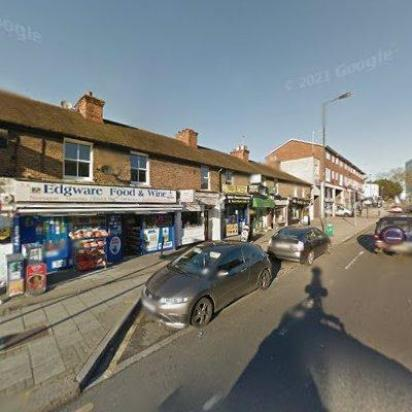moving-car: (372, 213, 412, 257), (389, 204, 403, 214)
stationary-car-onstreet: (142, 237, 272, 327), (266, 225, 332, 263)
stationary-light-truck-offstreet: (324, 202, 354, 218)
